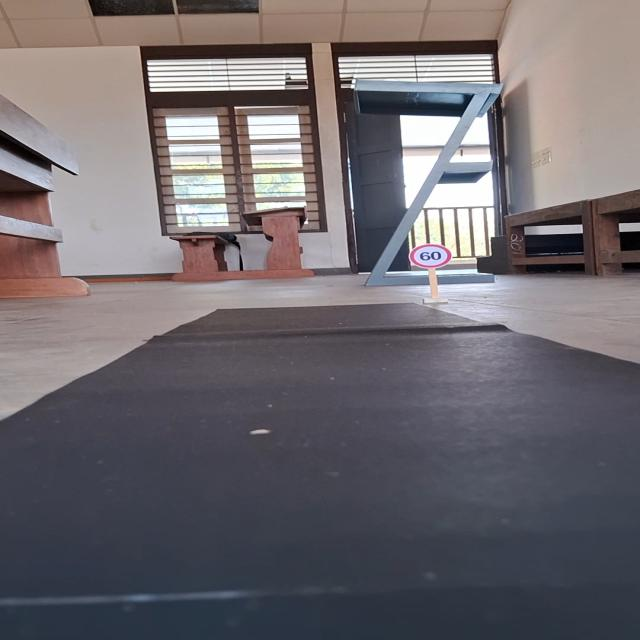Speed60: (406, 243, 454, 269)
